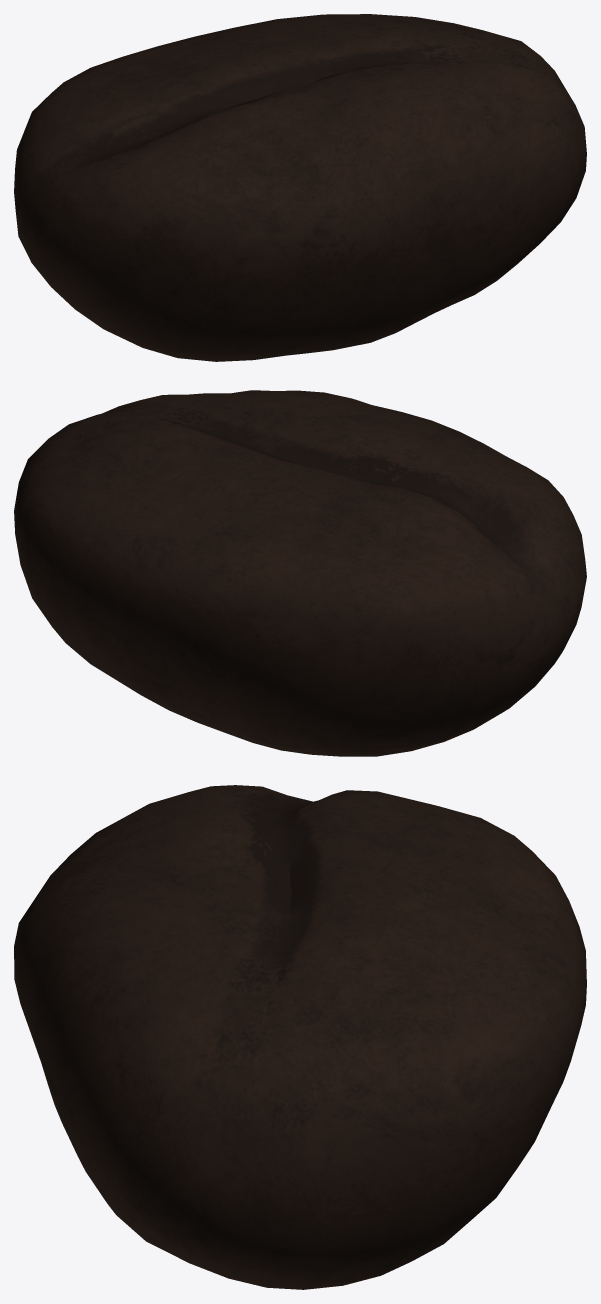
File: bean.glb
3 views of the same model, one above another, from view 1: azimuth 30°, elevation 25°; view 2: azimuth 150°, elevation 25°; view 3: azimuth 270°, elevation 25° (orthographic). The views are drawn at different scales.
Visible parts, largest first — view 1: Bean; view 2: Bean; view 3: Bean.
Part boxes in pixels (<box>): Bean: <box>14,14,586,361</box>; Bean: <box>14,390,586,756</box>; Bean: <box>14,785,586,1289</box>.
Size of the model in its own units: 0.00429 by 0.00205 by 0.0031.
1 material, 1 textured.
